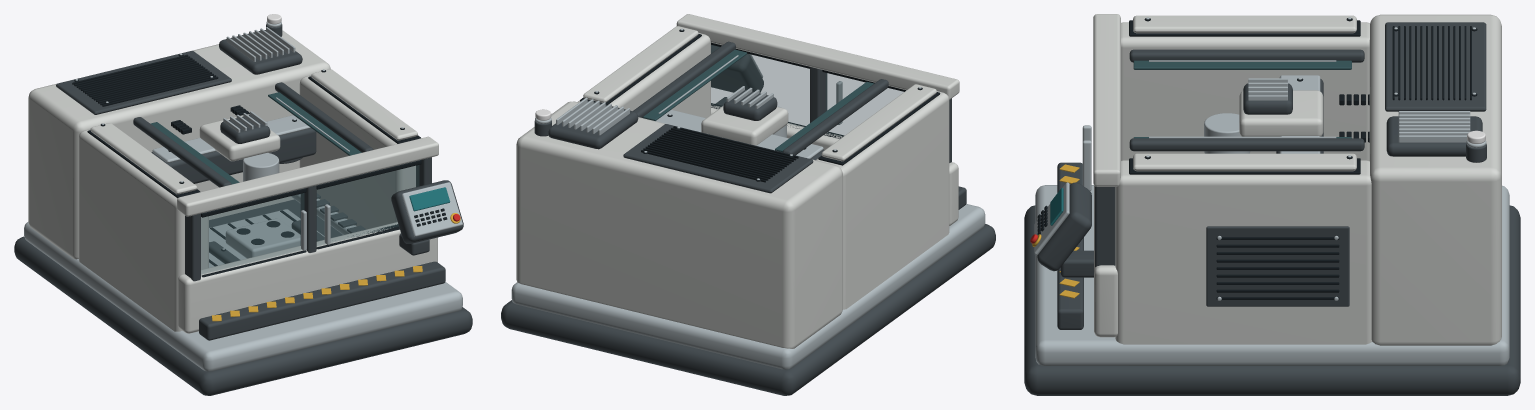
File: cnc.glb
3 renders of one model, left to right at view 1: azimuth 30°, elevation 25°; view 2: azimuth 150°, elevation 25°; view 3: azimuth 270°, elevation 25°, orthographic. The views are drawn at different scales.
Parts seen in each view (by area): view 1: Rear service enclosure, Side enclosure, Bed casting, Gunmetal cast plinth, Front lower apron, Side enclosure.001, Independent safety window, Door header, Front access threshold, Independent safety window.001, Rear removable service hatch, Raised roof edge (+24 smaller); view 2: Rear service enclosure, Side enclosure, Gunmetal cast plinth, Bed casting, Door header, Independent safety window.001, Side enclosure.001, Rear removable service hatch, Raised roof edge, Raised roof edge.001, Spindle carriage, Independent safety window (+12 smaller); view 3: Side enclosure.001, Rear service enclosure, Gunmetal cast plinth, Side enclosure, Bed casting, Side service grille surround, Rear removable service hatch, Door header, Raised roof edge, Raised roof edge.001, Glazing right roof frame, Glazing left roof frame (+21 smaller).
Boxes of the visible parts, left/top/right/bottom form: Rear service enclosure: left=28, top=30, right=330, bottom=259; Side enclosure: left=79, top=129, right=208, bottom=331; Bed casting: left=24, top=222, right=462, bottom=371; Gunmetal cast plinth: left=14, top=236, right=472, bottom=395; Front lower apron: left=178, top=222, right=437, bottom=333; Side enclosure.001: left=299, top=75, right=421, bottom=229; Independent safety window: left=201, top=193, right=304, bottom=274; Door header: left=177, top=136, right=438, bottom=216; Front access threshold: left=199, top=261, right=445, bottom=340; Independent safety window.001: left=317, top=165, right=419, bottom=245; Rear removable service hatch: left=56, top=50, right=231, bottom=114; Raised roof edge: left=90, top=123, right=197, bottom=194; Rear service enclosure: left=516, top=101, right=842, bottom=348; Side enclosure: left=816, top=91, right=949, bottom=309; Gunmetal cast plinth: left=501, top=224, right=995, bottom=395; Bed casting: left=511, top=204, right=985, bottom=369; Door header: left=676, top=14, right=959, bottom=99; Independent safety window.001: left=711, top=45, right=809, bottom=127; Side enclosure.001: left=577, top=33, right=710, bottom=117; Rear removable service hatch: left=623, top=124, right=813, bottom=193; Raised roof edge: left=821, top=84, right=936, bottom=161; Raised roof edge.001: left=583, top=26, right=698, bottom=102; Spindle carriage: left=701, top=105, right=788, bottom=145; Independent safety window: left=826, top=73, right=903, bottom=136; Side enclosure.001: left=1115, top=160, right=1371, bottom=344; Rear service enclosure: left=1369, top=14, right=1501, bottom=345; Gunmetal cast plinth: left=1024, top=205, right=1520, bottom=395; Side enclosure: left=1121, top=22, right=1369, bottom=160; Bed casting: left=1035, top=185, right=1509, bottom=365; Side service grille surround: left=1206, top=226, right=1349, bottom=306; Rear removable service hatch: left=1385, top=22, right=1486, bottom=111; Door header: left=1093, top=14, right=1120, bottom=186; Raised roof edge: left=1133, top=15, right=1356, bottom=33; Raised roof edge.001: left=1133, top=153, right=1356, bottom=171; Glazing right roof frame: left=1129, top=138, right=1364, bottom=151; Glazing left roof frame: left=1129, top=49, right=1364, bottom=62.
Size of what is drawn, in the model's own units: 3.65 by 2.5 by 4.5.
